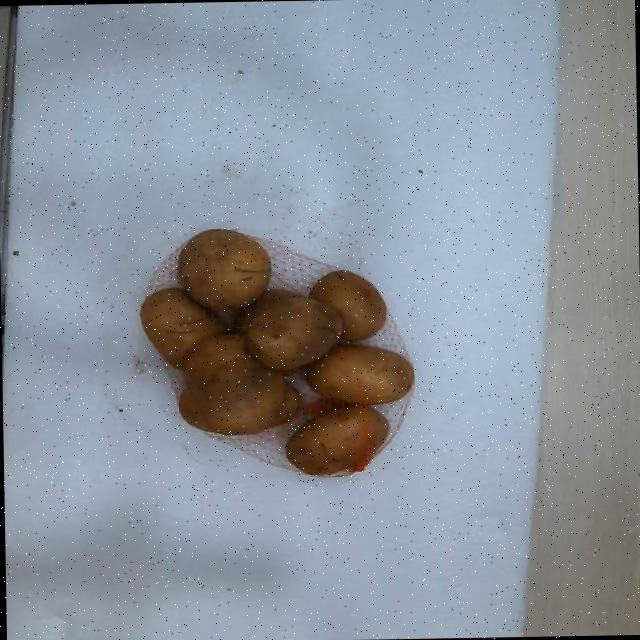potato: (179, 334, 300, 434), (241, 289, 342, 371), (179, 366, 300, 434), (178, 229, 269, 311), (285, 405, 387, 475), (140, 288, 222, 369), (307, 346, 413, 404), (309, 270, 383, 342)
